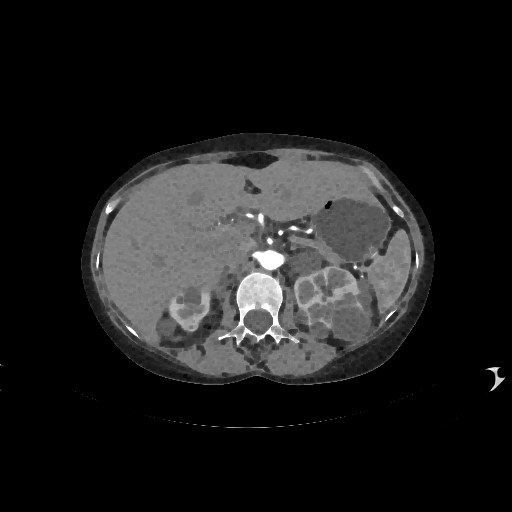Lesion: (183, 323, 198, 332)
